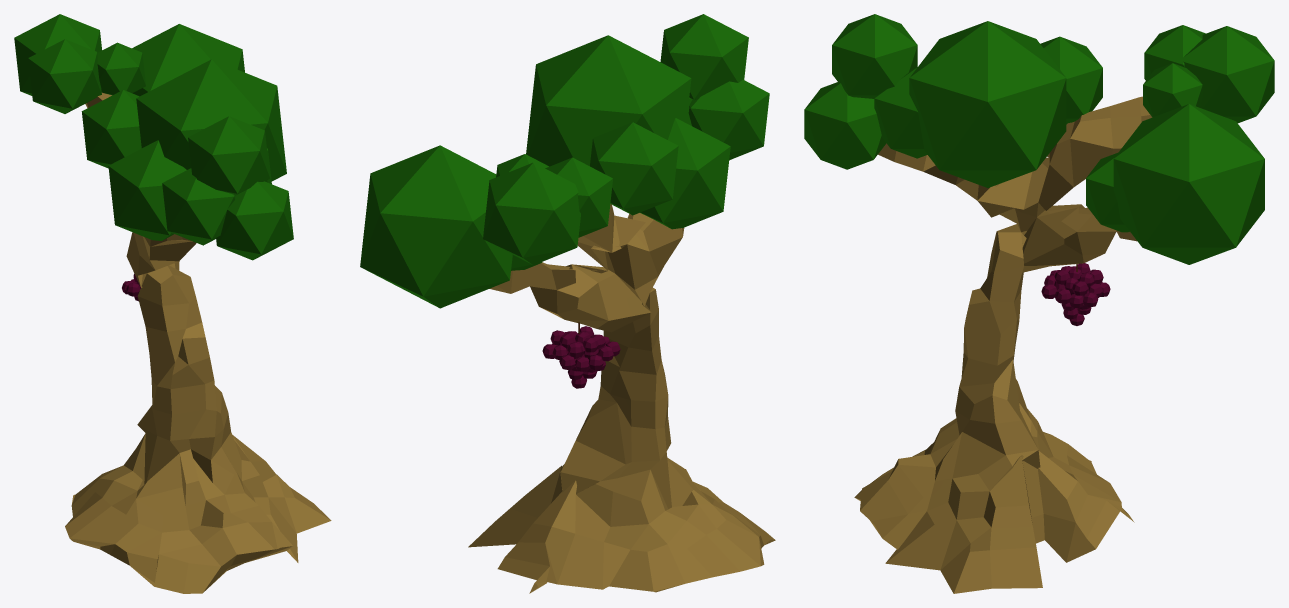
Rendered from tree_grape.glb.
The picture shows the model from 3 angles, left to right: view 1: azimuth 30°, elevation 25°; view 2: azimuth 150°, elevation 25°; view 3: azimuth 270°, elevation 25°; orthographic projection. The views are drawn at different scales.
Visible parts, largest first — view 1: trunk, Icosphere.017, Icosphere.021, Icosphere.016, Icosphere.022, Icosphere.019, Icosphere.015, Icosphere.023, Icosphere.013, Icosphere.020, Icosphere.018; view 2: trunk, Icosphere.015, Icosphere.017, Icosphere.020, Icosphere.013, Icosphere.016, Icosphere.021, Icosphere.023, Icosphere.019; view 3: trunk, Icosphere.017, Icosphere.015, Icosphere.020, Icosphere.021, Icosphere.022, Icosphere.013, Icosphere.024, Icosphere.018, Icosphere.014, Icosphere.019.
Boxes of the visible parts, x1=… form: trunk: x1=65, y1=92, x2=331, y2=593; Icosphere.017: x1=136, y1=59, x2=286, y2=181; Icosphere.021: x1=188, y1=116, x2=270, y2=195; Icosphere.016: x1=108, y1=140, x2=186, y2=240; Icosphere.022: x1=216, y1=181, x2=293, y2=260; Icosphere.019: x1=28, y1=39, x2=101, y2=113; Icosphere.015: x1=132, y1=24, x2=244, y2=96; Icosphere.023: x1=162, y1=168, x2=235, y2=245; Icosphere.013: x1=81, y1=90, x2=141, y2=168; Icosphere.020: x1=14, y1=14, x2=101, y2=95; Icosphere.018: x1=97, y1=42, x2=145, y2=95; trunk: x1=468, y1=204, x2=775, y2=593; Icosphere.015: x1=360, y1=145, x2=512, y2=308; Icosphere.017: x1=526, y1=35, x2=691, y2=166; Icosphere.020: x1=483, y1=162, x2=580, y2=265; Icosphere.013: x1=590, y1=122, x2=678, y2=215; Icosphere.016: x1=640, y1=118, x2=730, y2=229; Icosphere.021: x1=660, y1=14, x2=748, y2=99; Icosphere.023: x1=688, y1=79, x2=769, y2=160; Icosphere.019: x1=545, y1=157, x2=612, y2=237; trunk: x1=854, y1=96, x2=1152, y2=593; Icosphere.017: x1=909, y1=21, x2=1066, y2=187; Icosphere.015: x1=1113, y1=104, x2=1264, y2=264; Icosphere.020: x1=1183, y1=26, x2=1274, y2=123; Icosphere.021: x1=832, y1=14, x2=917, y2=98; Icosphere.022: x1=804, y1=82, x2=886, y2=169; Icosphere.013: x1=1040, y1=36, x2=1102, y2=124; Icosphere.024: x1=874, y1=67, x2=927, y2=158; Icosphere.018: x1=1143, y1=63, x2=1202, y2=117; Icosphere.014: x1=1086, y1=153, x2=1129, y2=232; Icosphere.019: x1=1144, y1=25, x2=1205, y2=80.
Size of the model in its own units: 10.48 by 18.21 by 14.88.
